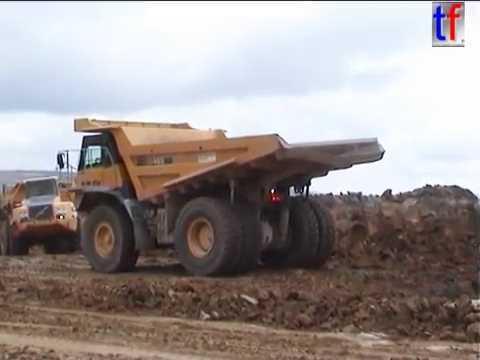truck: (51, 115, 389, 279), (1, 172, 82, 259)
